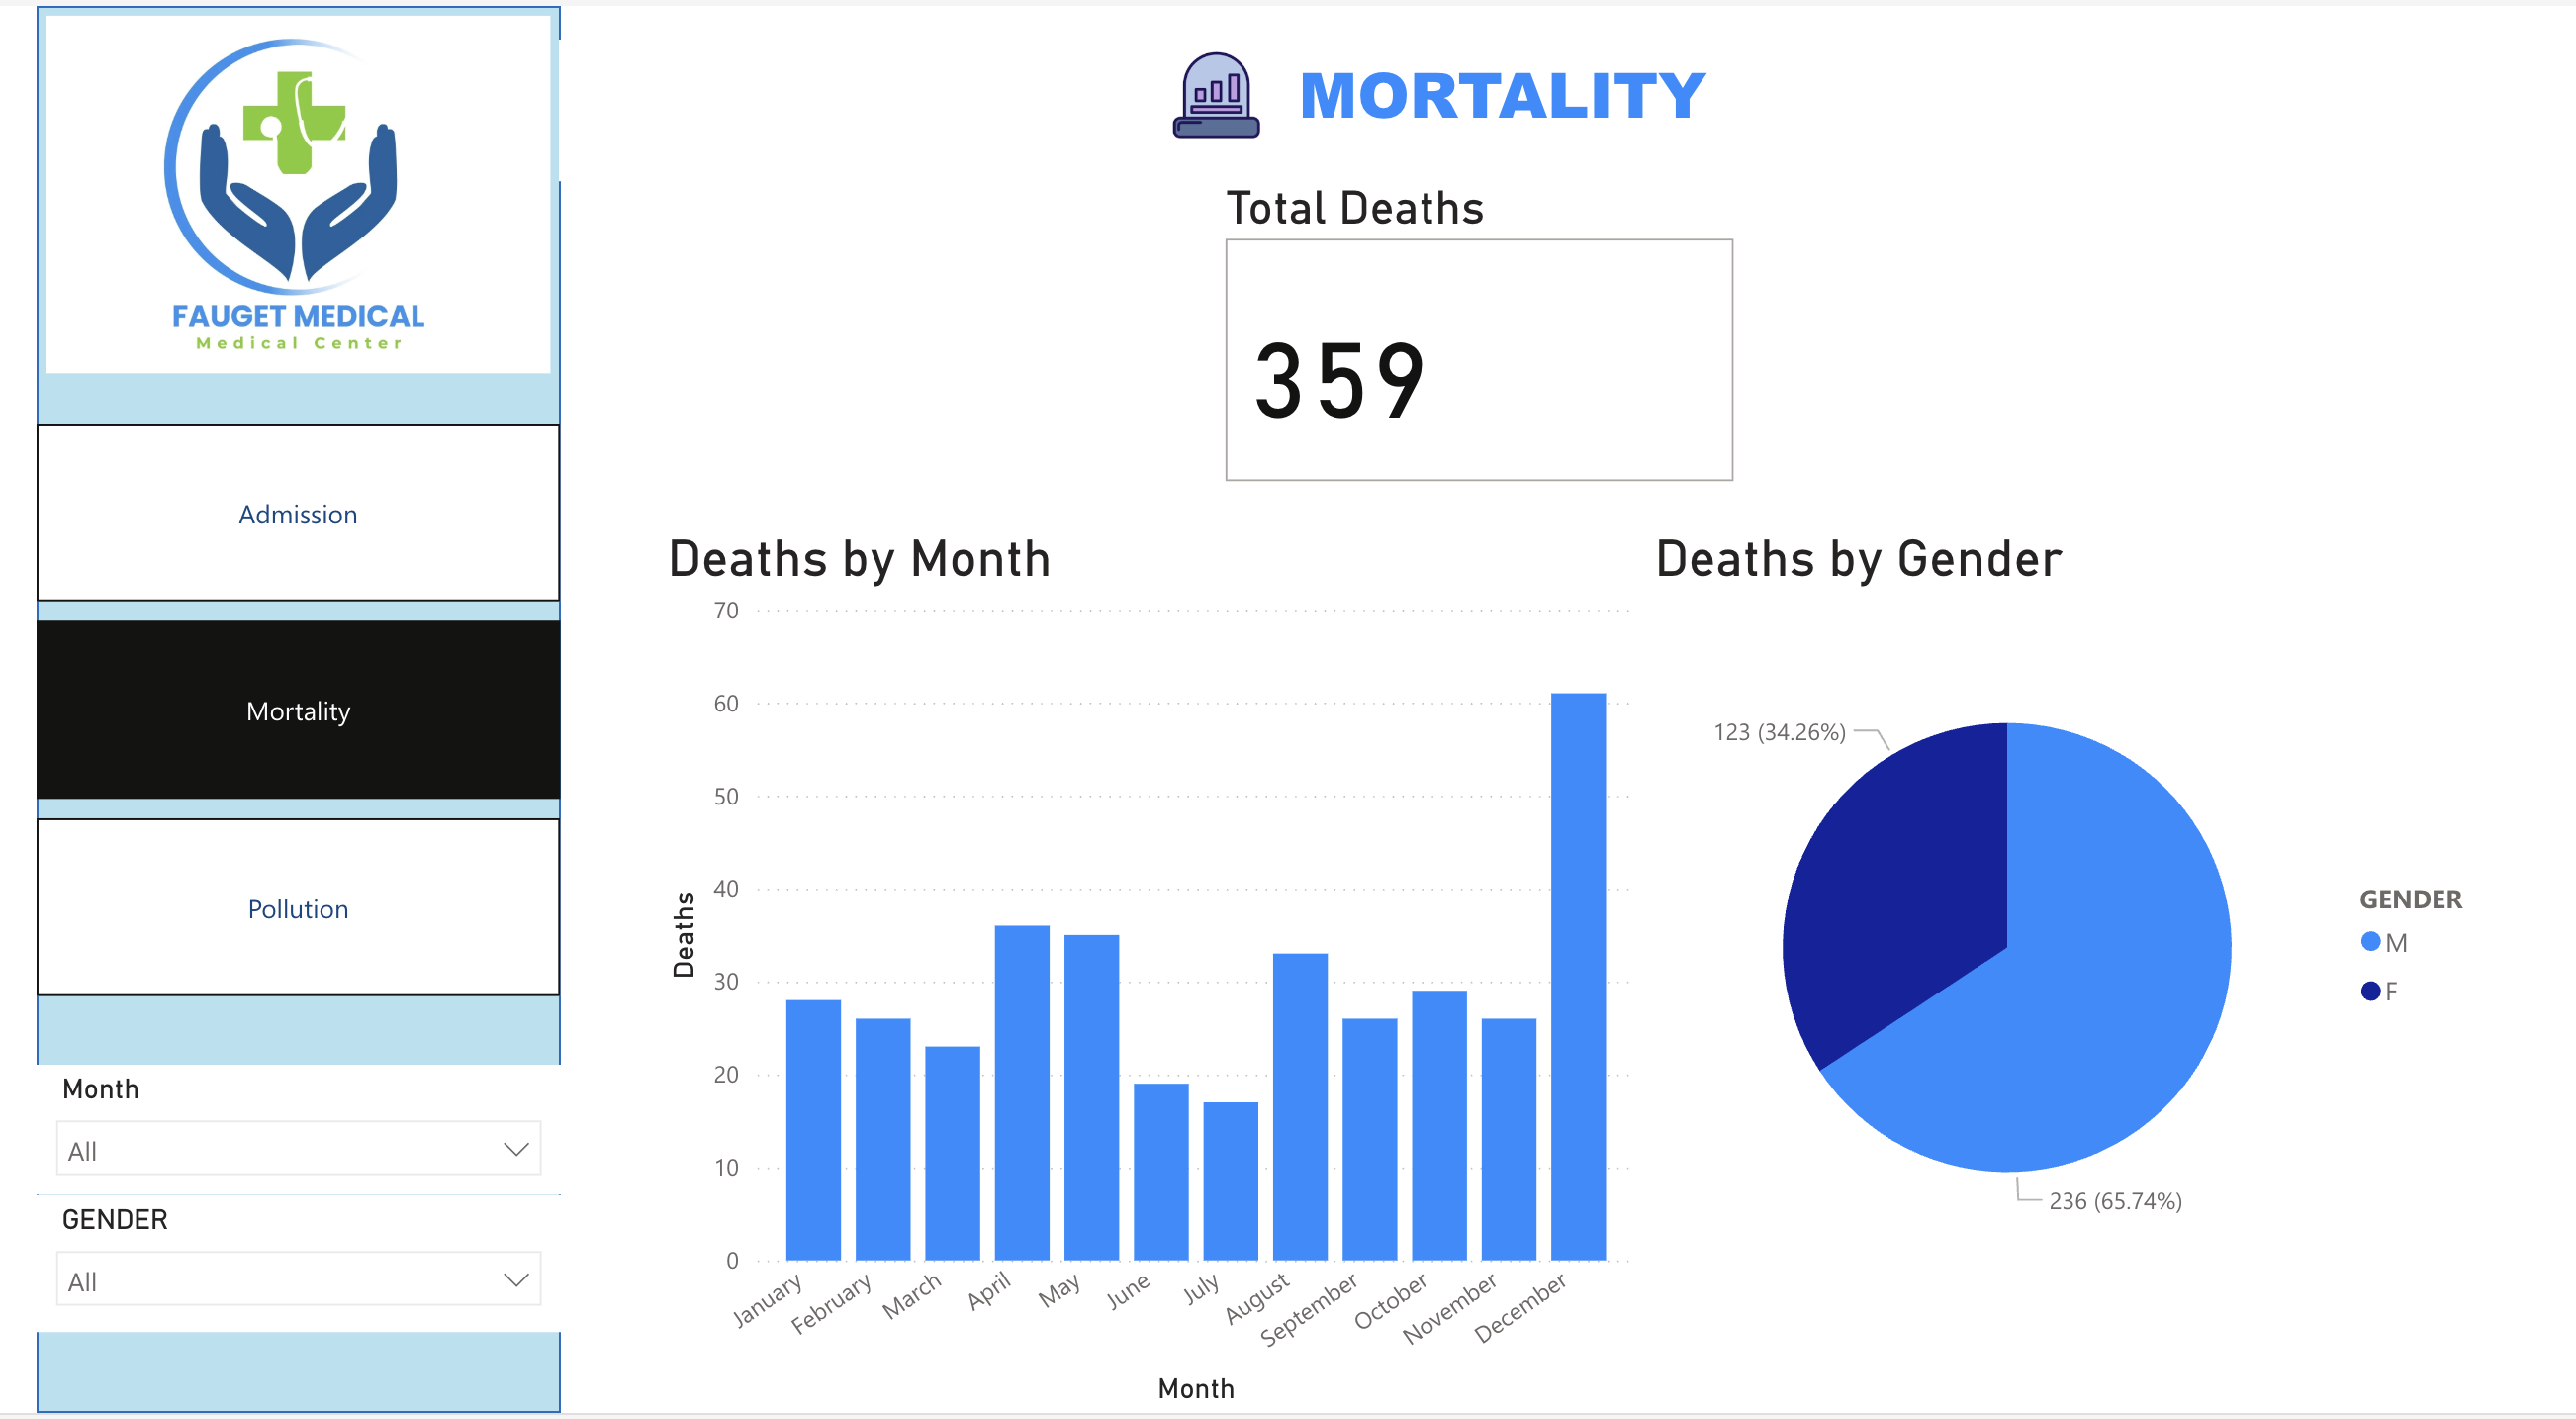

This screenshot's page, from the dashboard's own definition file:
{"tool":"powerbi","page":{"name":"Mortality ","canvas":[1280,720],"ordinal":1},"visuals":[{"type":"shape","box":[0,0,268.3,720],"z":0},{"type":"cardVisual","title":"Total Deaths ","fields":{"Data":["CountNonNull(HDHI Mortality Data.S.NO)"]},"box":[603.3,91.7,270,156.7],"z":1000},{"type":"clusteredColumnChart","title":"Deaths by Month","fields":{"Category":["HDHI Mortality Data.DATE OF BROUGHT DEAD.Variation.Date Hierarchy.Month"],"Y":["CountNonNull(HDHI Mortality Data.S.NO)"]},"box":[318.3,270,505,450],"z":2000},{"type":"pieChart","title":"Deaths by Gender","fields":{"Category":["HDHI Mortality Data.GENDER "],"Y":["CountNonNull(HDHI Mortality Data.S.NO)"]},"box":[823.3,270,446.7,398.3],"z":3000},{"type":"pageNavigator","box":[0,213.3,268.3,295],"z":4000},{"type":"textbox","box":[267.5,17.5,1012.5,72.5],"z":5000},{"type":"image","box":[0,0,268,192.8],"z":6000},{"type":"slicer","fields":{"Values":["HDHI Mortality Data.GENDER "]},"box":[0,608.3,268.3,70],"z":6001},{"type":"slicer","fields":{"Values":["HDHI Mortality Data.DATE OF BROUGHT DEAD.Variation.Date Hierarchy.Month"]},"box":[0,541.7,268.3,66.7],"z":6002},{"type":"image","box":[571.7,0,63.3,91.7],"z":6003}]}

Visuals, with their boxes in screenshot pixels (x1, y1, x2, y2), scaled from the page's 1280x720 canvas onto the 2576x1419 screenshot:
shape: BBox(0, 0, 540, 1418)
"Total Deaths " cardVisual: BBox(1214, 181, 1758, 490)
"Deaths by Month" clusteredColumnChart: BBox(641, 532, 1657, 1418)
"Deaths by Gender" pieChart: BBox(1657, 532, 2556, 1317)
pageNavigator: BBox(0, 421, 540, 1001)
textbox: BBox(538, 35, 2575, 177)
image: BBox(0, 0, 539, 380)
slicer - HDHI Mortality Data.GENDER : BBox(0, 1199, 540, 1337)
slicer - HDHI Mortality Data.DATE OF BROUGHT DEAD.Variation.Date Hierarchy.Month: BBox(0, 1068, 540, 1199)
image: BBox(1150, 0, 1278, 181)
